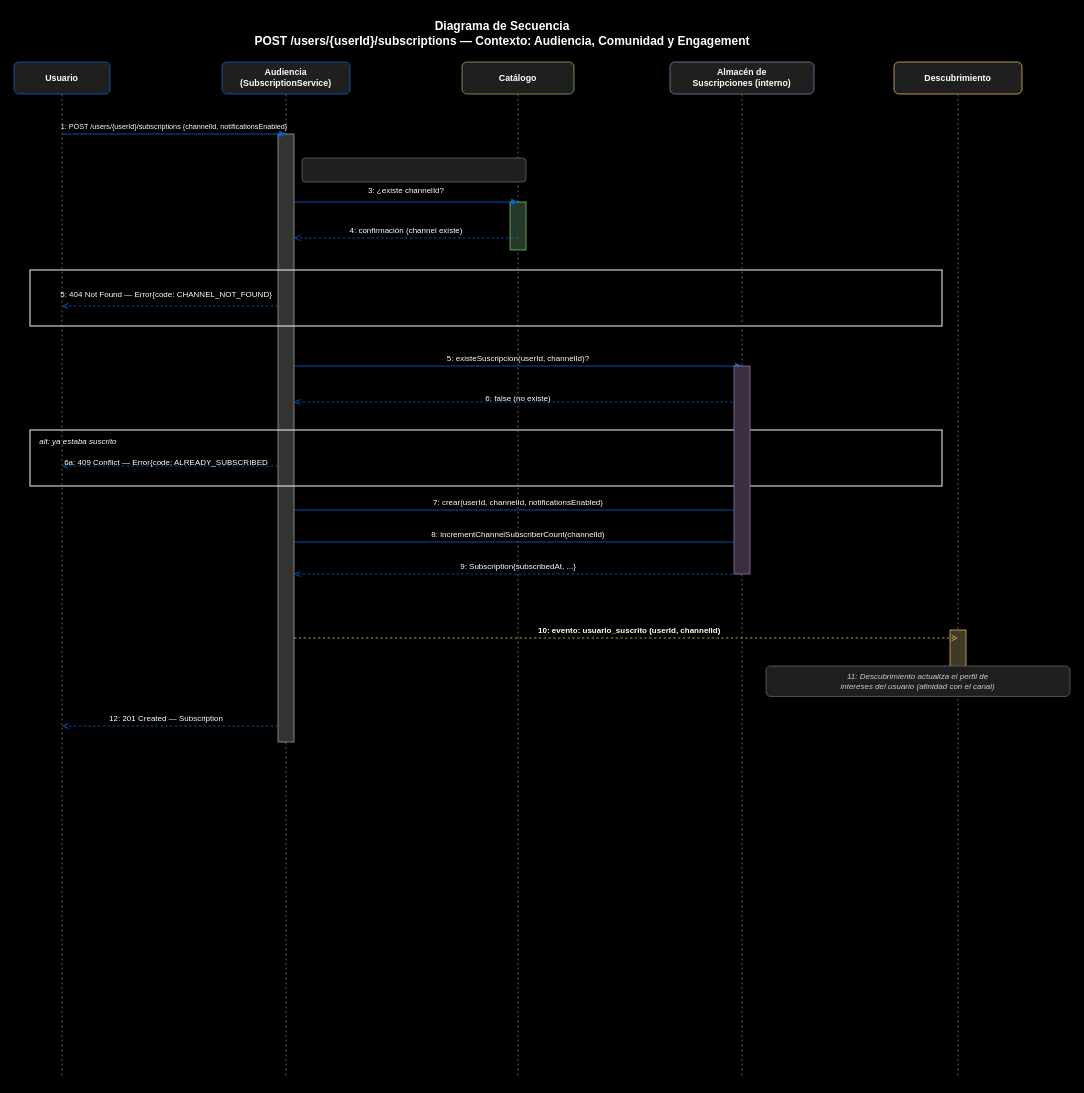
This 1084x1093 diagram has some shape labels left out. The shapes that lost their labels are listed below. From the top down, each one's centre as x and y in pixels, then its label:
pixel 413 169: 2: Verifica token Bearer (JWT)
pixel 485 297: alt: channelId no existe
